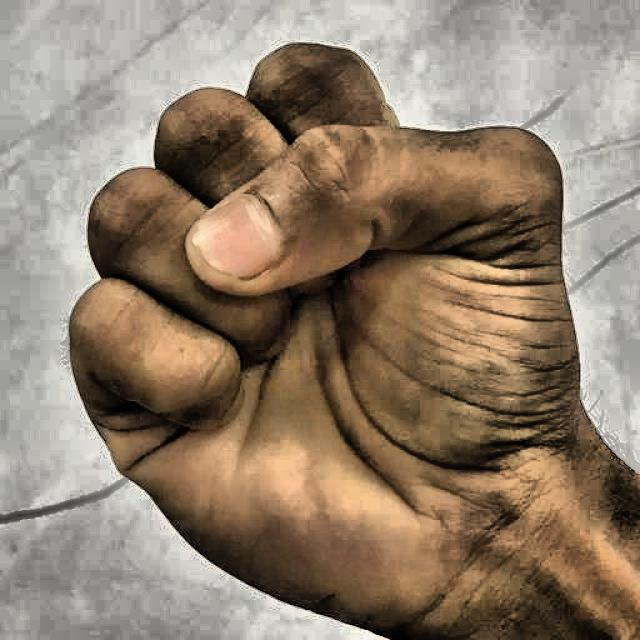Sha: (35, 26, 609, 634)
